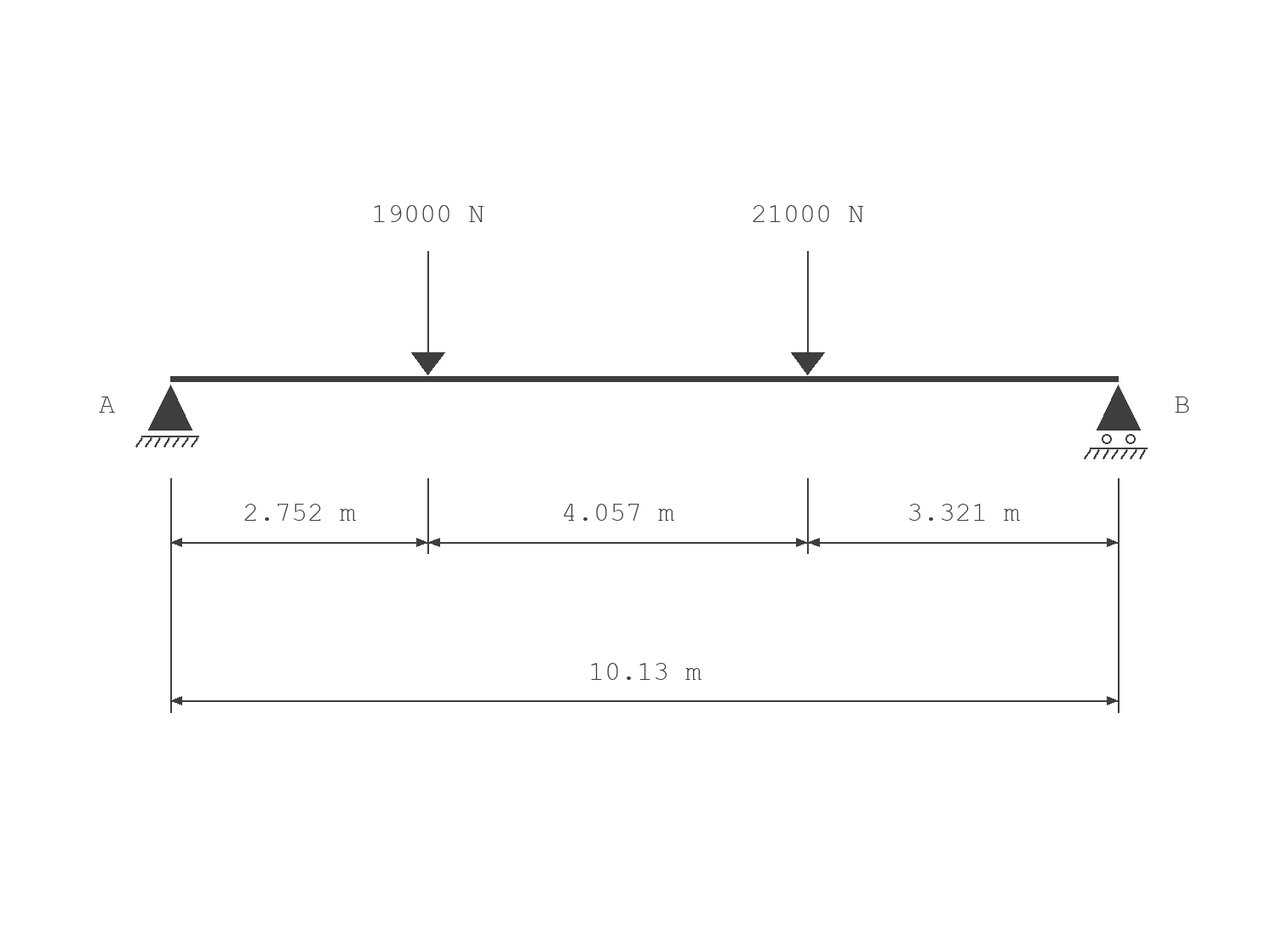pin_support: (135, 385, 199, 448)
point_load: (411, 251, 445, 375), (791, 251, 825, 375)
roller_support: (1084, 385, 1148, 459)
